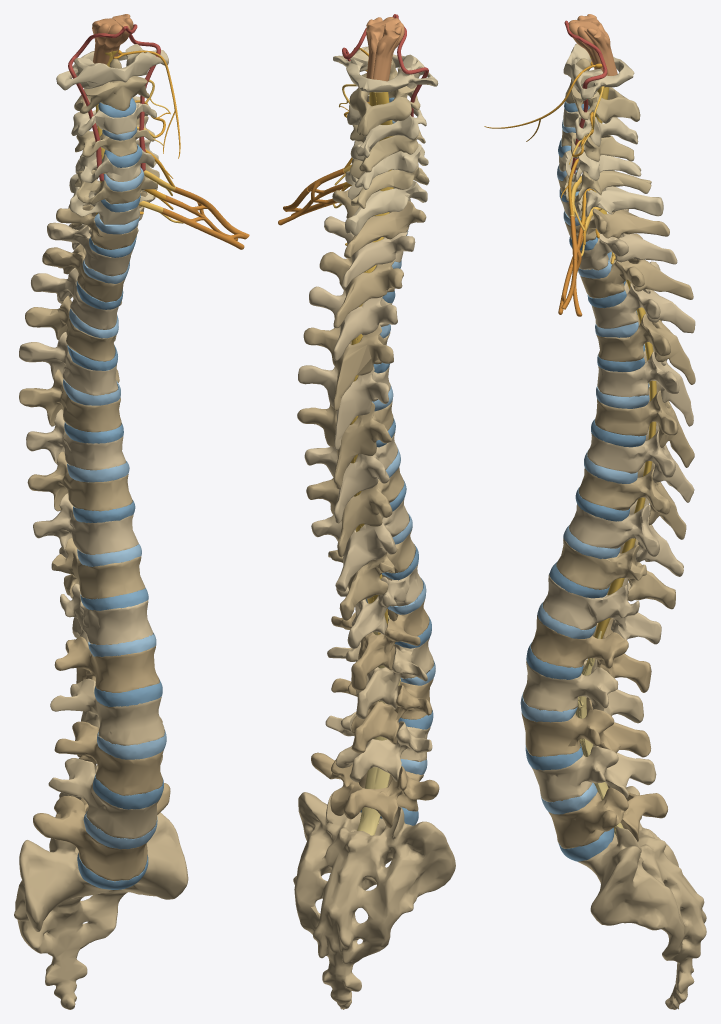
The model's file is spinal-cord.glb.
3 views of the same model, side by side, from view 1: azimuth 30°, elevation 25°; view 2: azimuth 150°, elevation 25°; view 3: azimuth 270°, elevation 25° (orthographic). The views are drawn at different scales.
Parts seen in each view (by area): view 1: sacrum, vertebra-l5, vertebra-l2, vertebra-l3, vertebra-l4, vertebra-l1, vertebra-t10, vertebra-t12, vertebra-t11, vertebra-t9, vertebra-t7, vertebra-t8 (+29 smaller); view 2: sacrum, vertebra-l5, vertebra-l4, vertebra-t7, vertebra-l3, vertebra-l2, vertebra-t10, vertebra-l1, vertebra-t9, vertebra-t6, vertebra-t5, vertebra-t8 (+18 smaller); view 3: sacrum, vertebra-l3, vertebra-l2, vertebra-l5, vertebra-l1, vertebra-t12, vertebra-l4, vertebra-t11, vertebra-t10, vertebra-t9, vertebra-t7, vertebra-t8 (+30 smaller).
Boxes of the visible parts, x1=… form: sacrum: x1=14, y1=812, x2=188, y2=1009; vertebra-l5: x1=33, y1=783, x2=170, y2=881; vertebra-l2: x1=50, y1=678, x2=164, y2=745; vertebra-l3: x1=54, y1=716, x2=163, y2=795; vertebra-l4: x1=48, y1=755, x2=162, y2=838; vertebra-l1: x1=54, y1=636, x2=159, y2=692; vertebra-t10: x1=33, y1=493, x2=138, y2=558; vertebra-t12: x1=60, y1=583, x2=153, y2=644; vertebra-t11: x1=51, y1=537, x2=145, y2=599; vertebra-t9: x1=27, y1=451, x2=132, y2=511; vertebra-t7: x1=19, y1=369, x2=121, y2=432; vertebra-t8: x1=26, y1=409, x2=125, y2=470; sacrum: x1=293, y1=792, x2=455, y2=1009; vertebra-l5: x1=311, y1=752, x2=439, y2=828; vertebra-l4: x1=325, y1=712, x2=432, y2=782; vertebra-t7: x1=297, y1=401, x2=393, y2=488; vertebra-l3: x1=331, y1=678, x2=433, y2=753; vertebra-l2: x1=327, y1=637, x2=433, y2=719; vertebra-t10: x1=311, y1=498, x2=409, y2=591; vertebra-l1: x1=331, y1=598, x2=429, y2=690; vertebra-t9: x1=306, y1=466, x2=404, y2=557; vertebra-t6: x1=298, y1=365, x2=390, y2=450; vertebra-t5: x1=303, y1=324, x2=393, y2=410; vertebra-t8: x1=304, y1=432, x2=397, y2=523; sacrum: x1=578, y1=786, x2=706, y2=1009; vertebra-l3: x1=521, y1=697, x2=651, y2=757; vertebra-l2: x1=522, y1=659, x2=643, y2=723; vertebra-l5: x1=548, y1=784, x2=667, y2=848; vertebra-l1: x1=530, y1=615, x2=651, y2=692; vertebra-t12: x1=543, y1=573, x2=661, y2=644; vertebra-l4: x1=531, y1=744, x2=656, y2=802; vertebra-t11: x1=556, y1=538, x2=675, y2=609; vertebra-t10: x1=569, y1=498, x2=683, y2=576; vertebra-t9: x1=578, y1=462, x2=686, y2=539; vertebra-t7: x1=594, y1=381, x2=694, y2=467; vertebra-t8: x1=587, y1=422, x2=694, y2=502.
Bounding box in the file's own units: 1.2 × 5.79 × 1.18.
